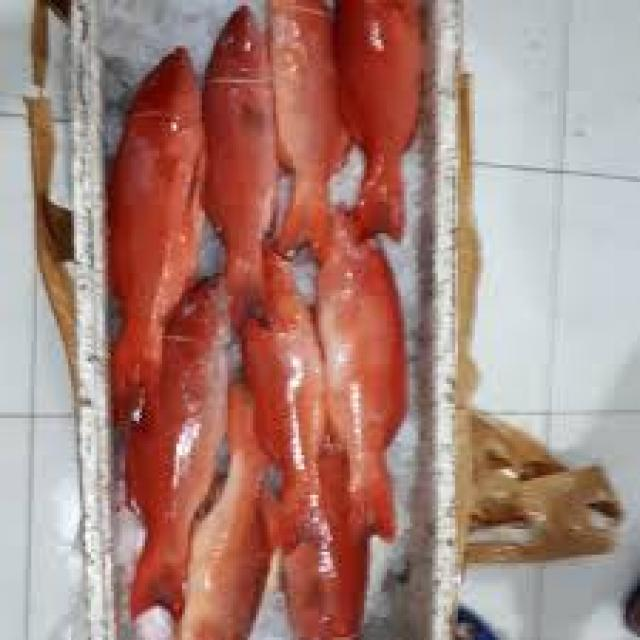Plectropomus-leopardus: (107, 0, 423, 640)
